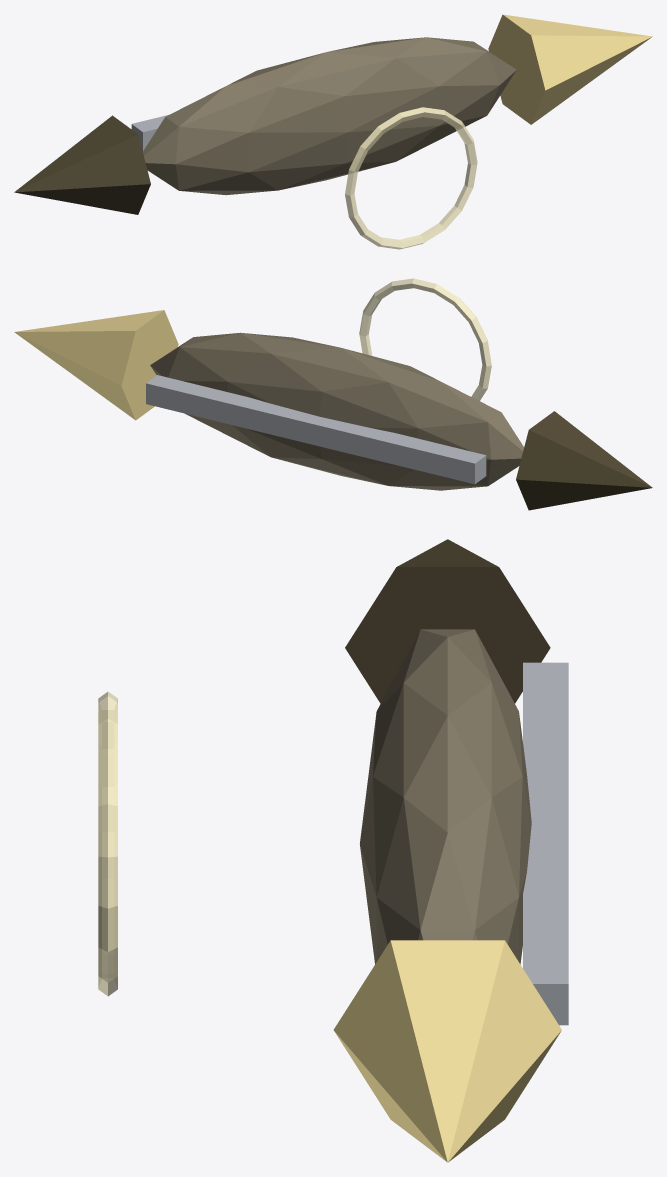
File: 05_skyship_hull.glb
3 renders of one model, top to bottom at view 1: azimuth 30°, elevation 25°; view 2: azimuth 150°, elevation 25°; view 3: azimuth 270°, elevation 25°, orthographic. The views are drawn at different scales.
Visible parts, largest first — view 1: hull_low_poly, bow_upgrade, stern_fin, size_class_ring, keel_plate; view 2: hull_low_poly, keel_plate, bow_upgrade, stern_fin, size_class_ring; view 3: hull_low_poly, bow_upgrade, stern_fin, keel_plate, size_class_ring.
Boxes of the visible parts, box(x1,y1,x2,y2) form: hull_low_poly: box(143, 37, 516, 195); bow_upgrade: box(488, 14, 652, 124); stern_fin: box(14, 115, 150, 214); size_class_ring: box(345, 107, 477, 249); keel_plate: box(131, 115, 168, 151); hull_low_poly: box(150, 332, 523, 490); keel_plate: box(146, 375, 486, 484); bow_upgrade: box(14, 310, 178, 420); stern_fin: box(516, 411, 652, 510); size_class_ring: box(359, 278, 491, 400); hull_low_poly: box(360, 629, 531, 964); bow_upgrade: box(333, 940, 561, 1162); stern_fin: box(345, 539, 550, 703); keel_plate: box(523, 662, 568, 1025); size_class_ring: box(98, 691, 117, 996).
Bounding box in the file's own units: 4.52 × 0.9237 × 1.44.
